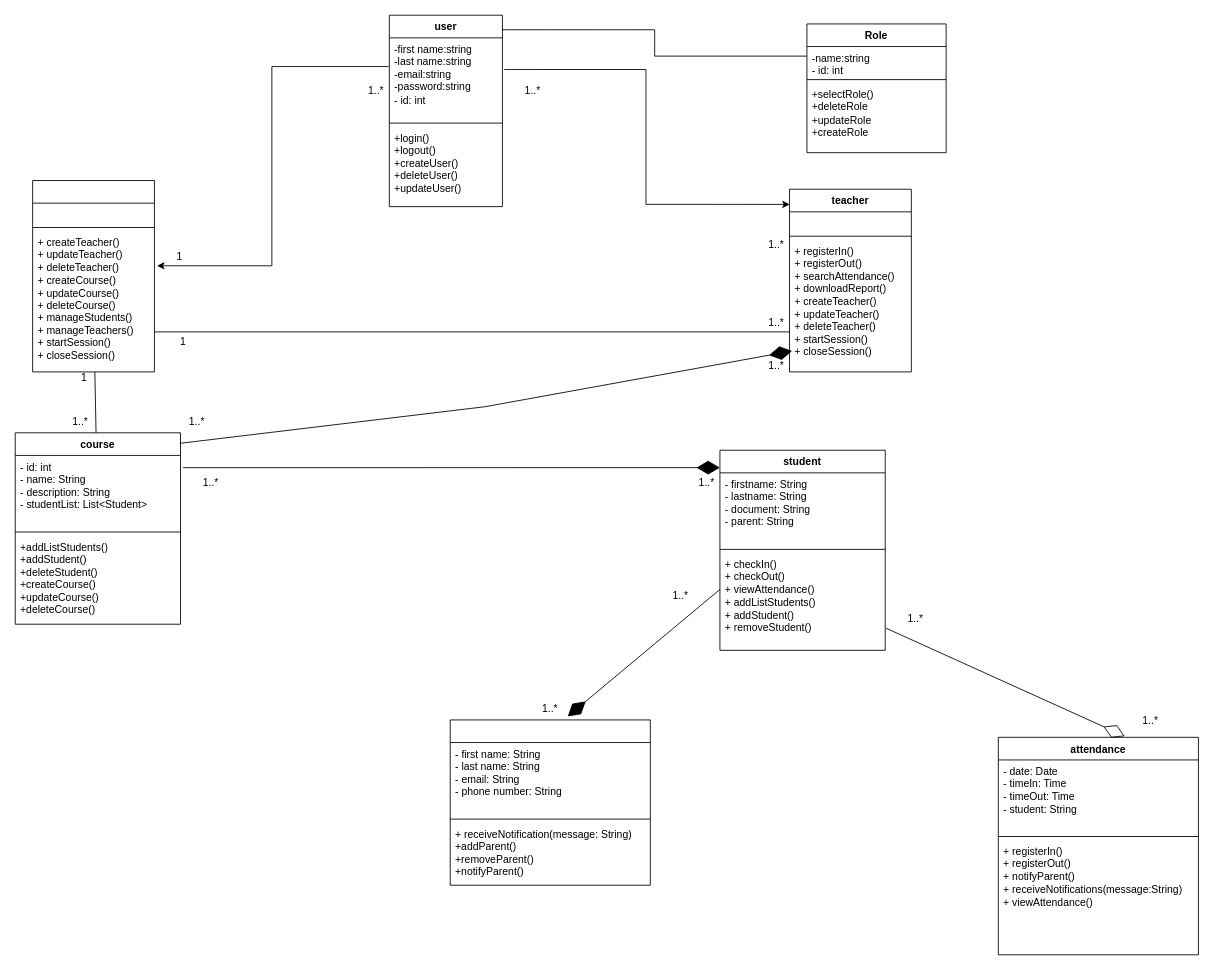
This 1214x973 diagram has some shape labels left out. Each missing label, with the box of its shape:
administrator: (32, 180, 154, 372)
father: (449, 719, 650, 885)
